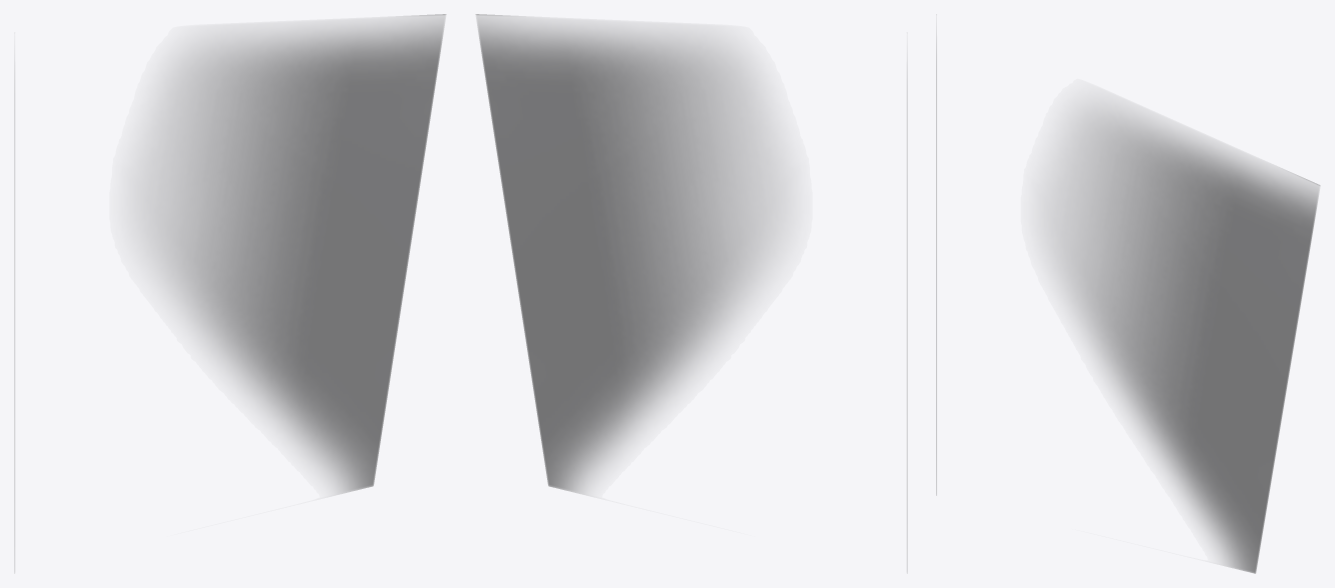
3 renders of one model, left to right at view 1: azimuth 30°, elevation 25°; view 2: azimuth 150°, elevation 25°; view 3: azimuth 330°, elevation 25°, orthographic. The views are drawn at different scales.
Parts seen in each view (by area): view 1: model_Object12; view 2: model_Object12; view 3: model_Object12.
Part boxes in pixels (left/top/right/bottom): model_Object12: left=147, top=14, right=445, bottom=493; model_Object12: left=476, top=14, right=774, bottom=493; model_Object12: left=936, top=48, right=1319, bottom=573.
Bounding box in the file's own units: 1.33 × 1.59 × 0.
Materials: 1 (1 with a texture image).
